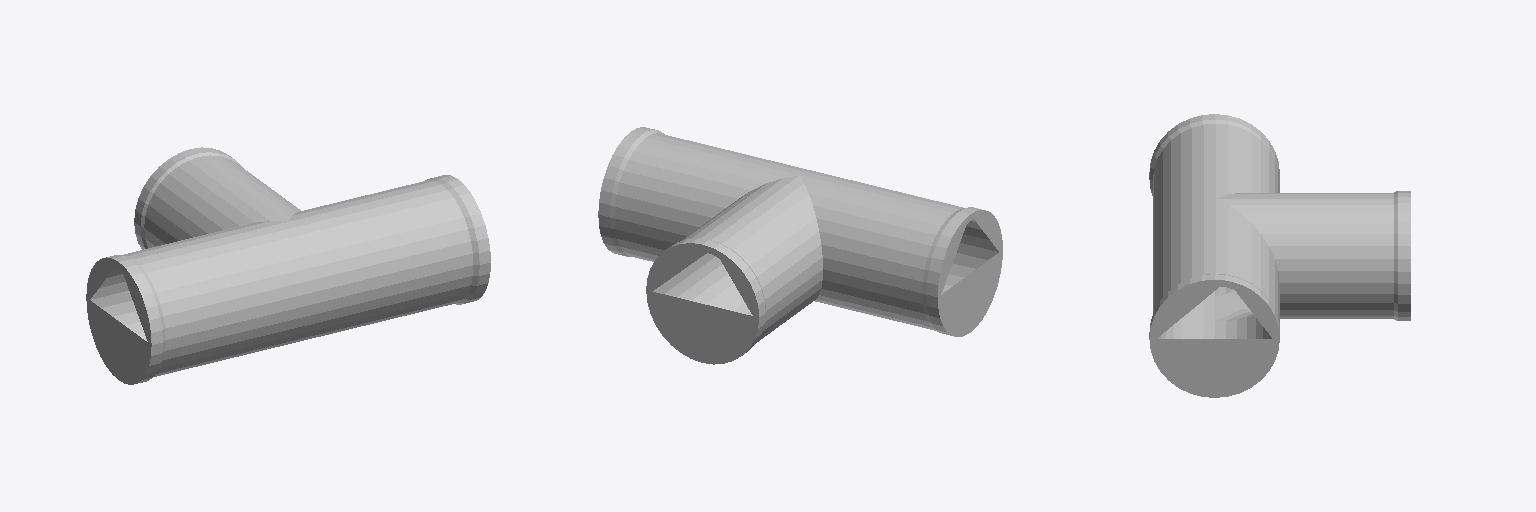
The model's file is TShapePipe.obj.
3 views of the same model, side by side, from view 1: azimuth 30°, elevation 25°; view 2: azimuth 150°, elevation 25°; view 3: azimuth 270°, elevation 25° (orthographic).
Parts seen in each view (by area): view 1: TShapePipe_Cylinder.005; view 2: TShapePipe_Cylinder.005; view 3: TShapePipe_Cylinder.005.
Part boxes in pixels (bbox=[...]): TShapePipe_Cylinder.005: bbox=[86, 147, 490, 384]; TShapePipe_Cylinder.005: bbox=[598, 127, 1002, 364]; TShapePipe_Cylinder.005: bbox=[1149, 114, 1410, 397].
Bounding box in the file's own units: 3 × 1 × 2.